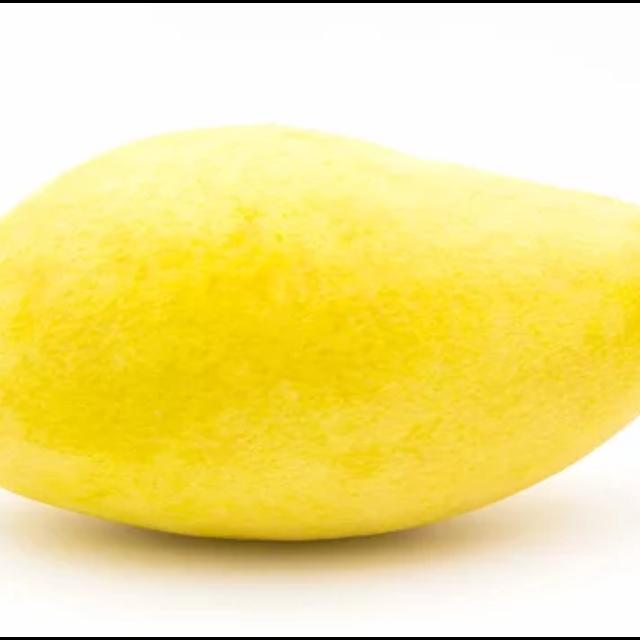mango: (0, 130, 640, 540)
